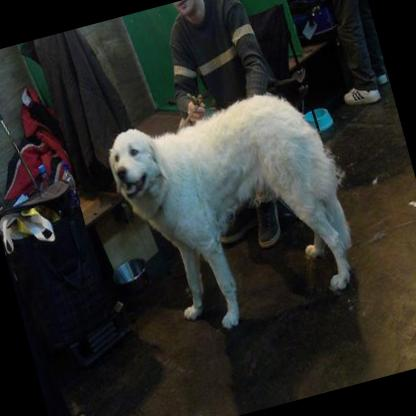kuvasz: (98, 74, 372, 348)
